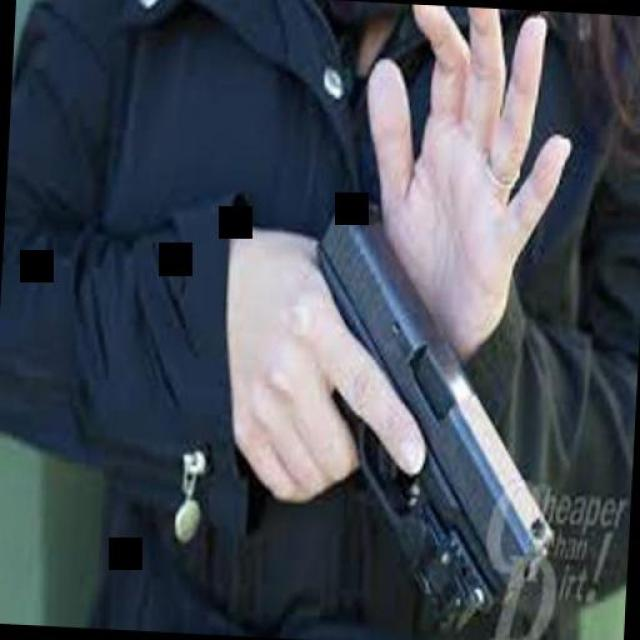gun: (268, 187, 568, 622)
